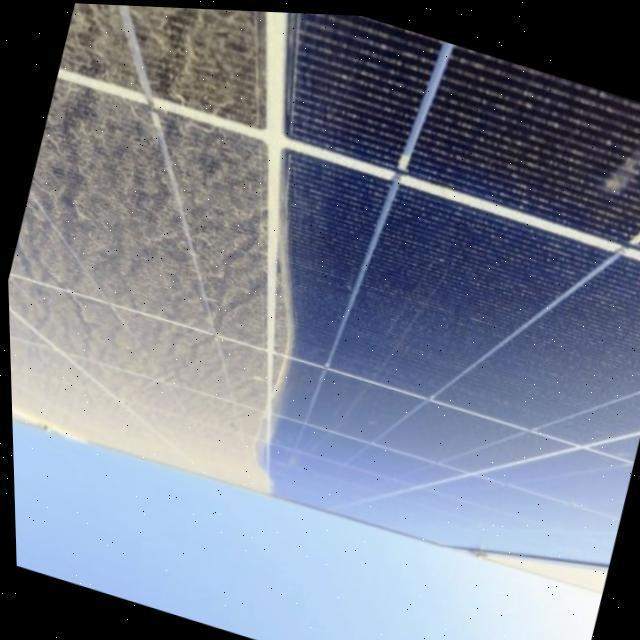Surface Contaminant: (6, 3, 277, 498), (479, 552, 604, 587)
